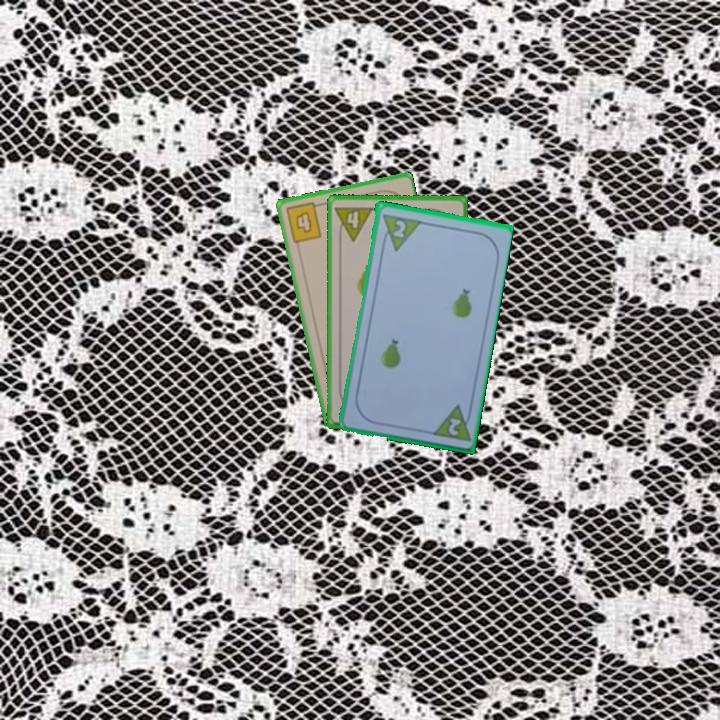2p: (427, 401, 475, 444), (389, 216, 409, 240)
4b: (281, 199, 325, 246)
4p: (332, 203, 376, 244)
